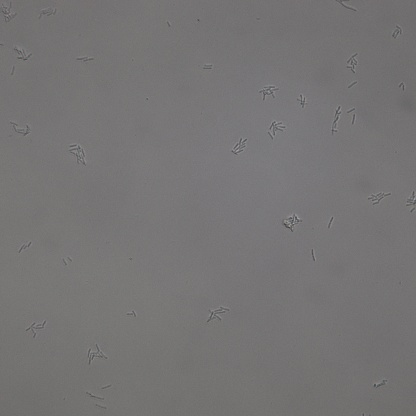R(colony): (86, 344, 109, 364), (206, 305, 229, 324), (258, 83, 280, 102), (68, 142, 86, 165), (330, 105, 343, 135), (367, 190, 391, 206), (283, 213, 303, 232), (25, 320, 46, 338), (268, 119, 286, 139), (11, 120, 32, 137), (1, 1, 16, 24), (344, 51, 359, 74), (232, 137, 249, 156), (38, 6, 57, 18), (18, 48, 33, 62), (298, 93, 309, 108), (76, 56, 94, 63), (374, 379, 387, 387)
